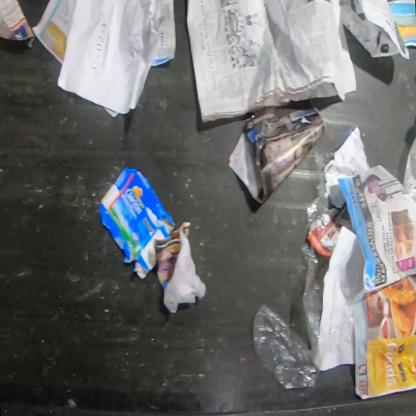cardboard: (99, 167, 176, 280)
soft_plastic: (253, 244, 330, 391), (305, 150, 334, 225), (403, 138, 415, 203)
